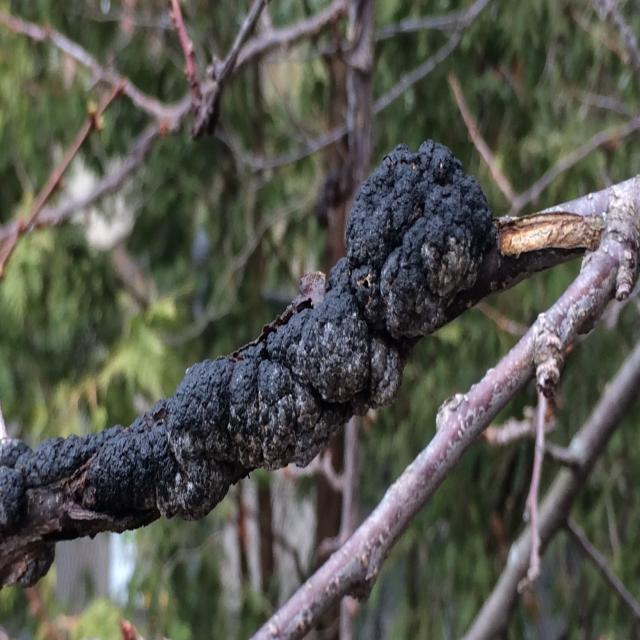Black_knot: (1, 136, 496, 587), (344, 137, 494, 341)
